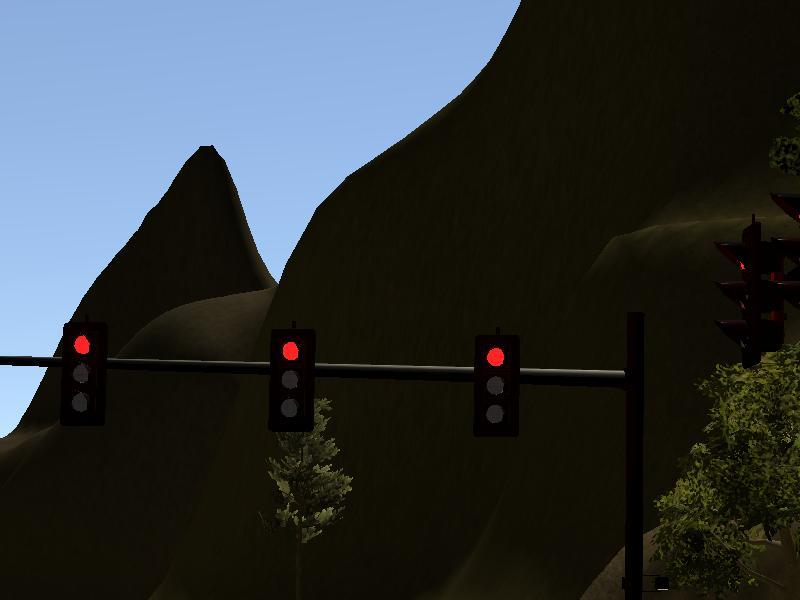Red: (477, 336, 518, 435), (274, 331, 312, 432), (63, 326, 101, 424)
